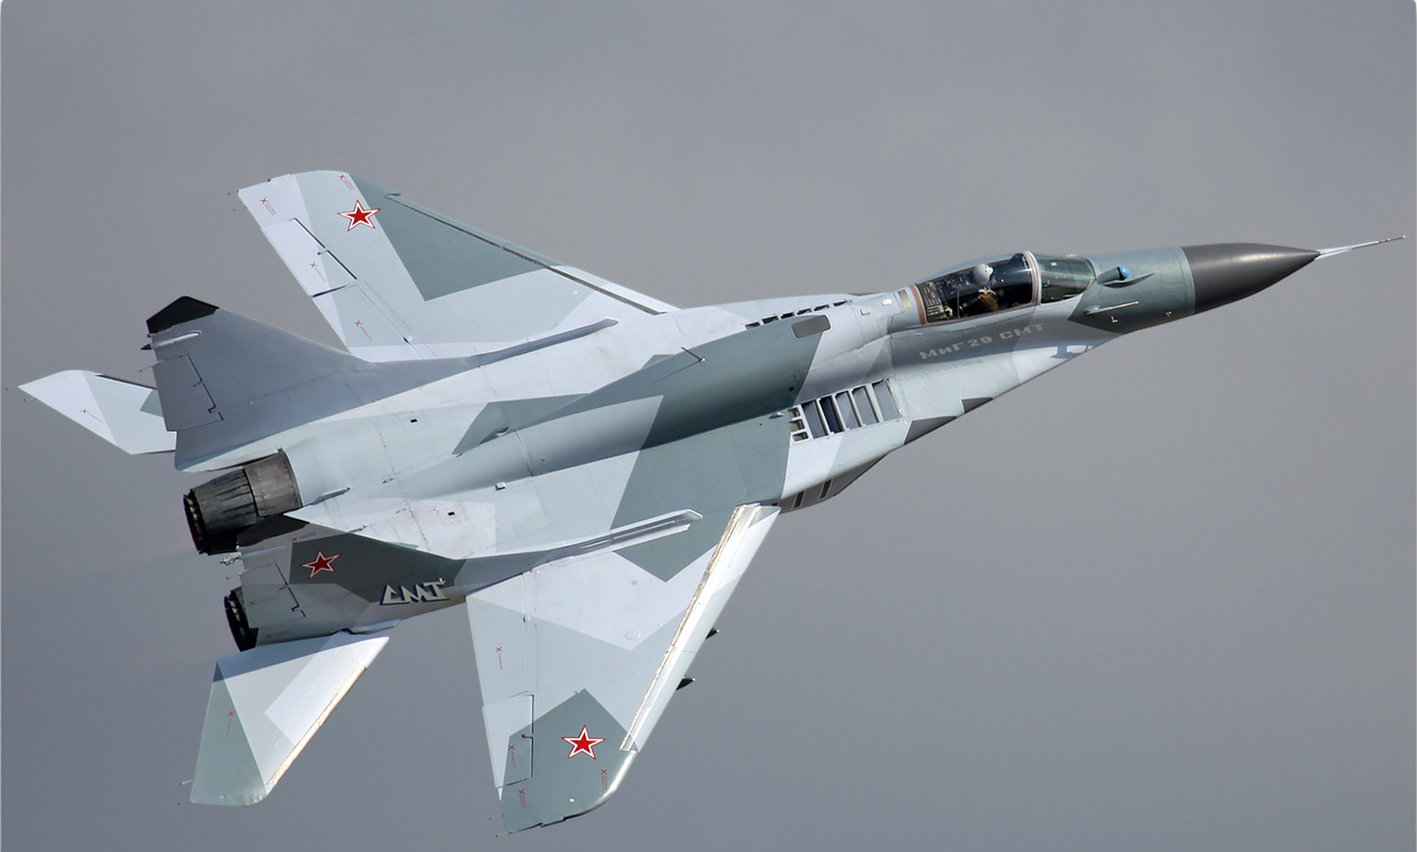Mig-29: (50, 88, 1337, 750)
